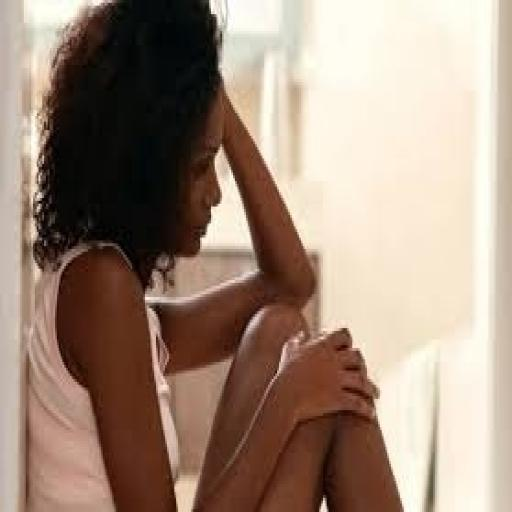sleeping: (22, 0, 407, 509)
